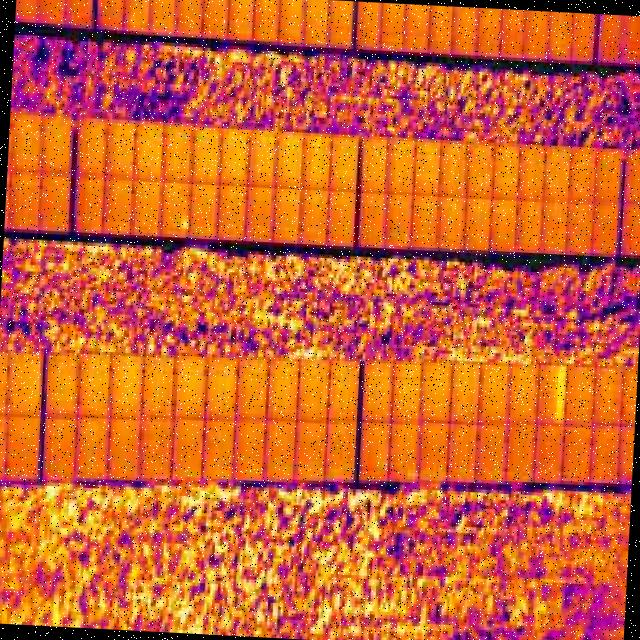Hotspot: (554, 366, 569, 424), (178, 219, 192, 232)
